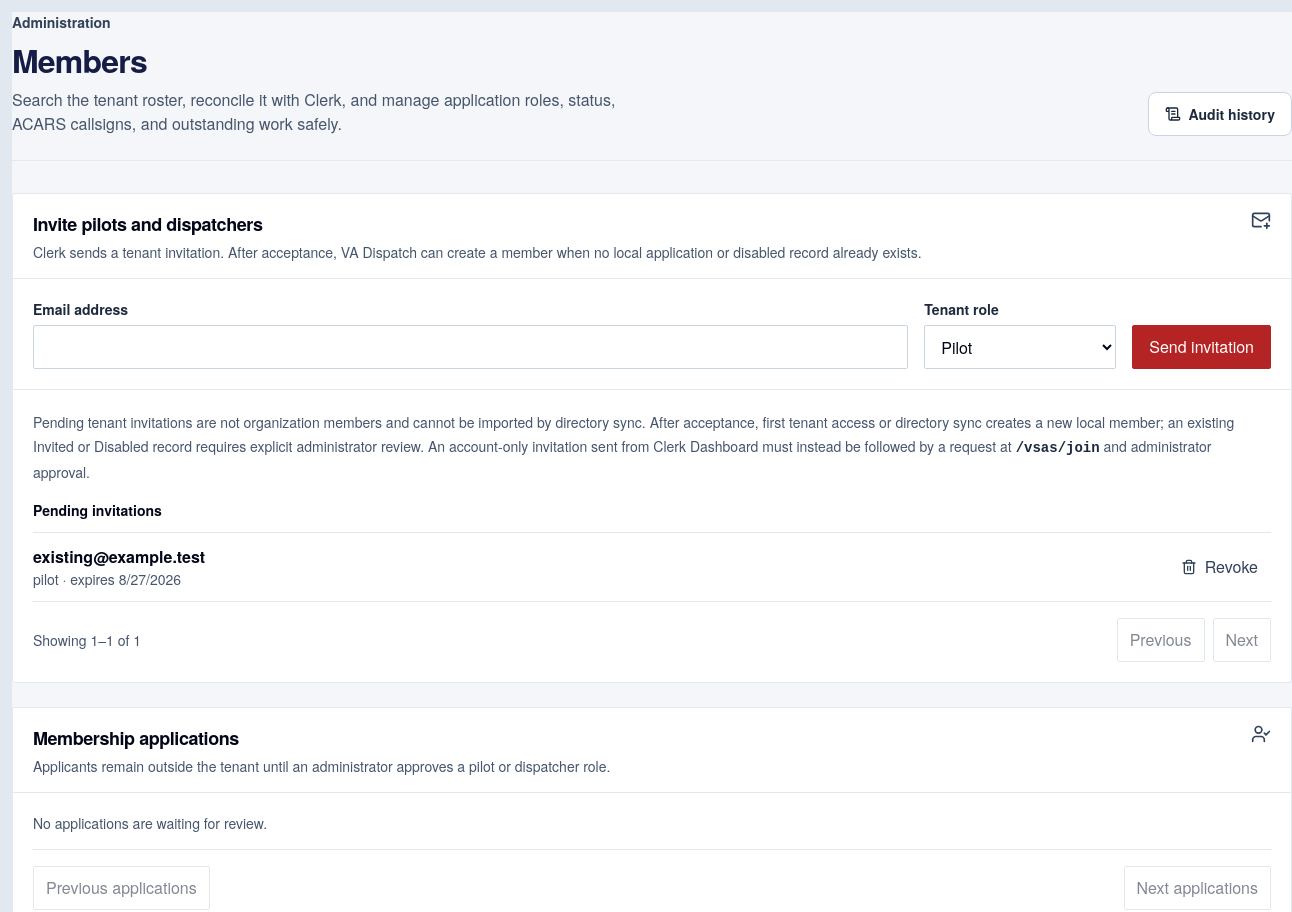
admin member console › keeps the last known invitation list visible when a refresh fails
Expected: the text "existing@example.test" is shown, [33, 545, 205, 569]
Type "new@example.test" into the field labelled "Email address".
click(471, 347); type("new@example.test")  # box [33, 325, 908, 369]
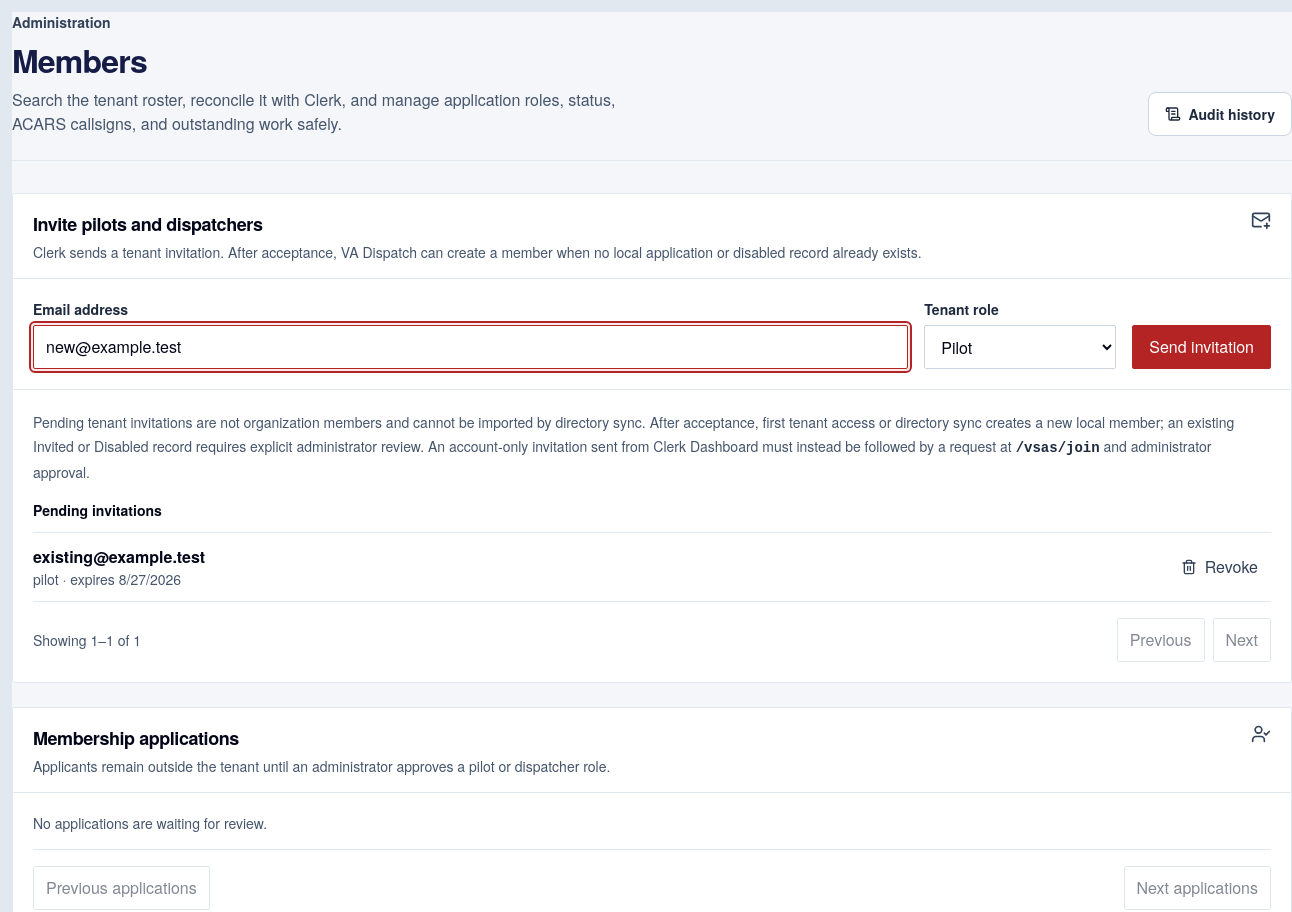
Click the button "Send invitation".
click(1202, 347)  # box [1132, 325, 1271, 369]
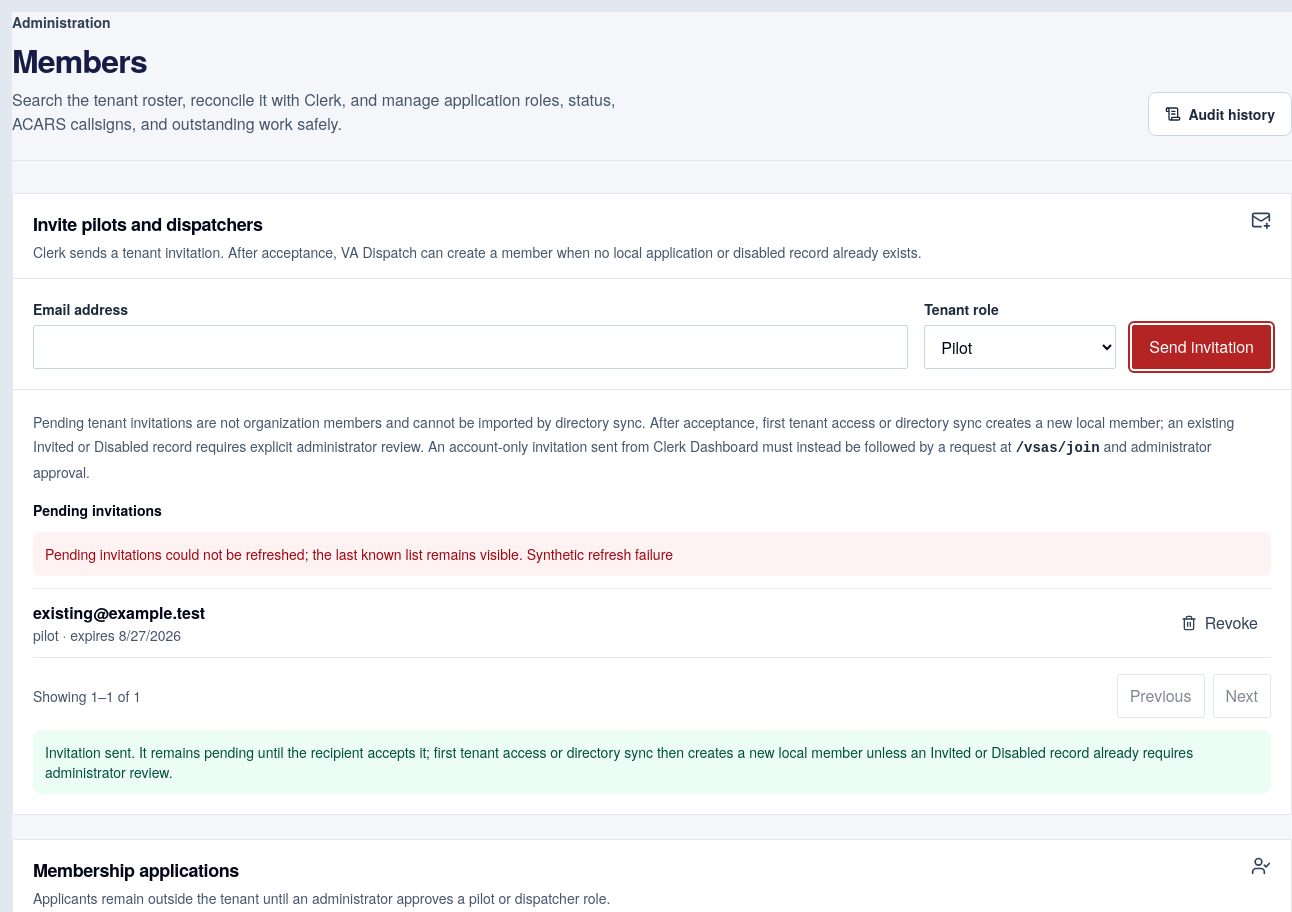
Expected: the text "existing@example.test" is shown, [33, 601, 205, 625]
Expected: the 1st message shows "last known list remains visible", [45, 544, 527, 564]
